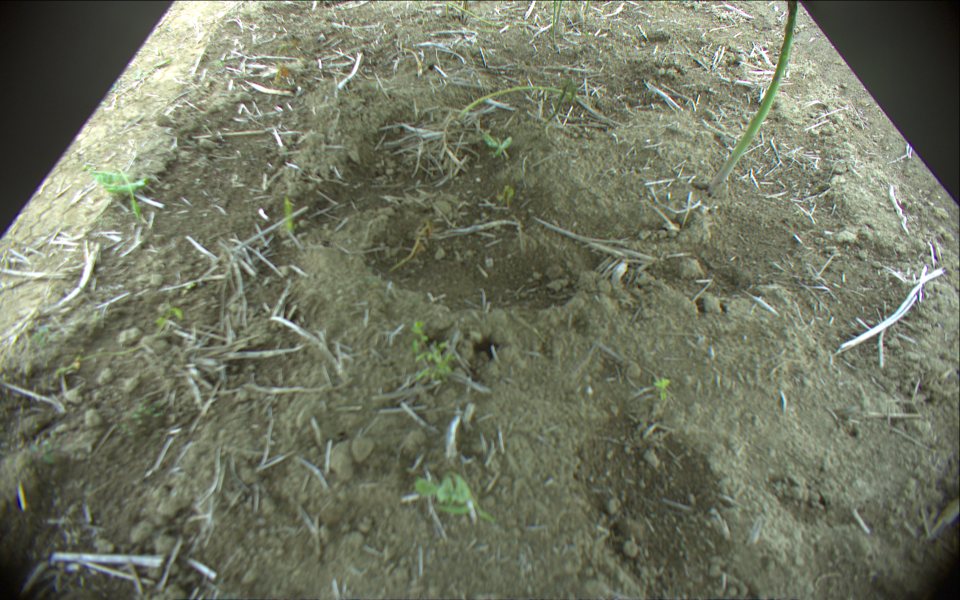aspa: (708, 1, 803, 198), (453, 83, 579, 118), (448, 3, 509, 30), (545, 82, 571, 121), (557, 1, 566, 28), (553, 1, 558, 30)
